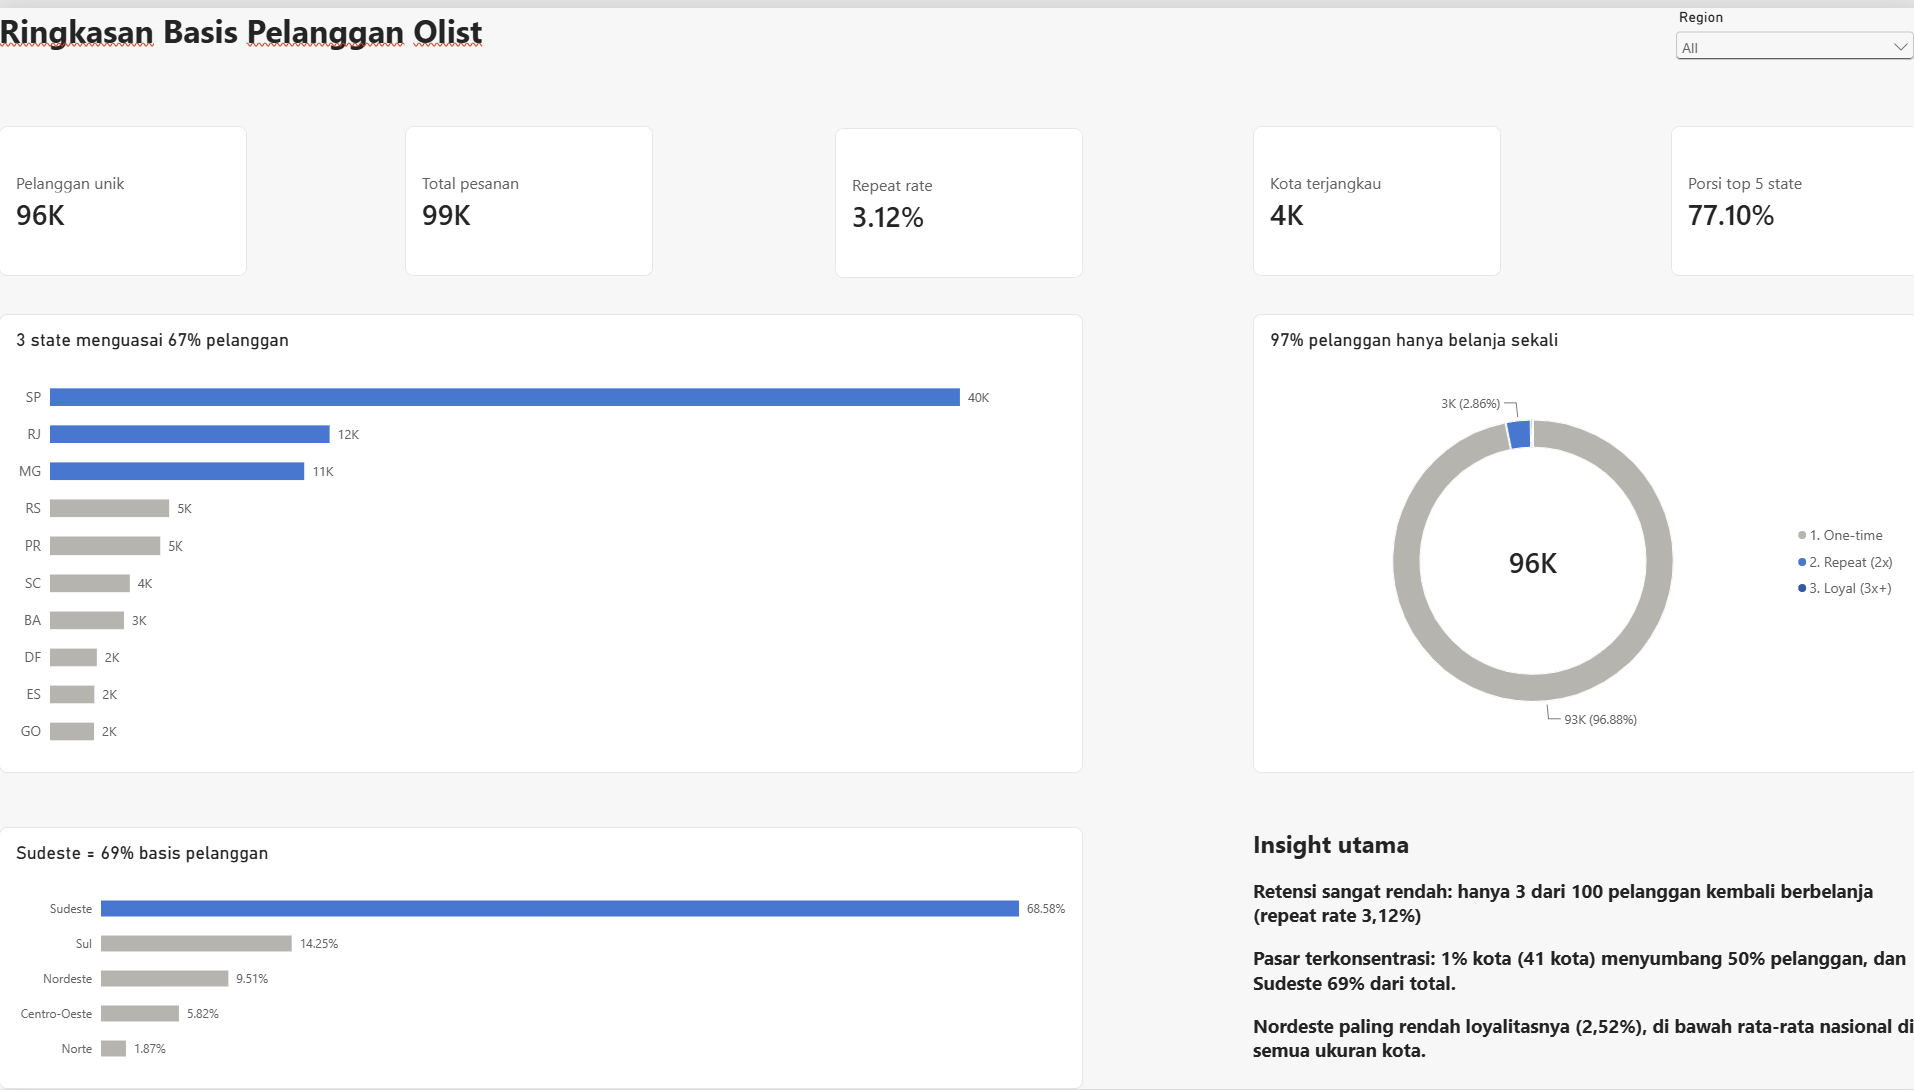

The page's visual inventory and layout, read from the dashboard file:
{"tool":"powerbi","page":{"name":"Executive Overview","canvas":[1920,1080],"ordinal":0},"visuals":[{"type":"textbox","title":"Ringkasan basis pelanggan Olist","box":[0,0,488,74],"z":0},{"type":"cardVisual","fields":{"Data":["_Measures.Unique Customers"]},"box":[0,117,248,150],"z":1000},{"type":"cardVisual","fields":{"Data":["_Measures.Total Records"]},"box":[406,118,248,150],"z":2000},{"type":"cardVisual","fields":{"Data":["_Measures.Repeat Customer Rate"]},"box":[836,120,248,150],"z":3000},{"type":"cardVisual","fields":{"Data":["_Measures.Cities Covered"]},"box":[1254,118,248,150],"z":4000},{"type":"cardVisual","fields":{"Data":["_Measures.Top 5 State Share %"]},"box":[1672,118,248,150],"z":5000},{"type":"slicer","fields":{"Values":["DimGeography.region"]},"box":[1672,0,248,74],"z":6000},{"type":"clusteredBarChart","title":"3 state menguasai 67% pelanggan","fields":{"Category":["DimGeography.customer_state"],"Y":["_Measures.Unique Customers"]},"box":[0,305,1084,458],"z":6001},{"type":"donutChart","title":"97% pelanggan hanya belanja sekali","fields":{"Category":["DimCustomer.segment"],"Y":["_Measures.Unique Customers"]},"box":[1254,305,666,458],"z":6002},{"type":"clusteredBarChart","title":"Sudeste = 69% basis pelanggan","fields":{"Category":["DimGeography.region"],"Y":["_Measures.Customer Share %"]},"box":[0,818,1084,262],"z":6003},{"type":"textbox","box":[1254,818,668,262],"z":6004}]}

Visuals, with their boxes in screenshot pixels (x1, y1, x2, y2), scaled from the page's 1920x1080 canvas onto the 1914x1090 screenshot:
"Ringkasan basis pelanggan Olist" textbox: left=0, top=0, right=486, bottom=75
cardVisual - _Measures.Unique Customers: left=0, top=118, right=247, bottom=269
cardVisual - _Measures.Total Records: left=405, top=119, right=652, bottom=270
cardVisual - _Measures.Repeat Customer Rate: left=833, top=121, right=1081, bottom=272
cardVisual - _Measures.Cities Covered: left=1250, top=119, right=1497, bottom=270
cardVisual - _Measures.Top 5 State Share %: left=1667, top=119, right=1913, bottom=270
slicer - DimGeography.region: left=1667, top=0, right=1913, bottom=75
"3 state menguasai 67% pelanggan" clusteredBarChart: left=0, top=308, right=1081, bottom=770
"97% pelanggan hanya belanja sekali" donutChart: left=1250, top=308, right=1913, bottom=770
"Sudeste = 69% basis pelanggan" clusteredBarChart: left=0, top=826, right=1081, bottom=1089
textbox: left=1250, top=826, right=1913, bottom=1089
